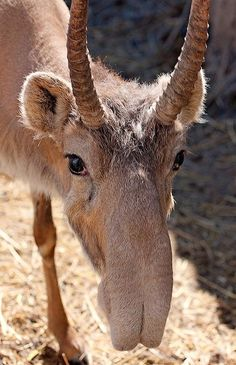saiga: (5, 5, 232, 365)
